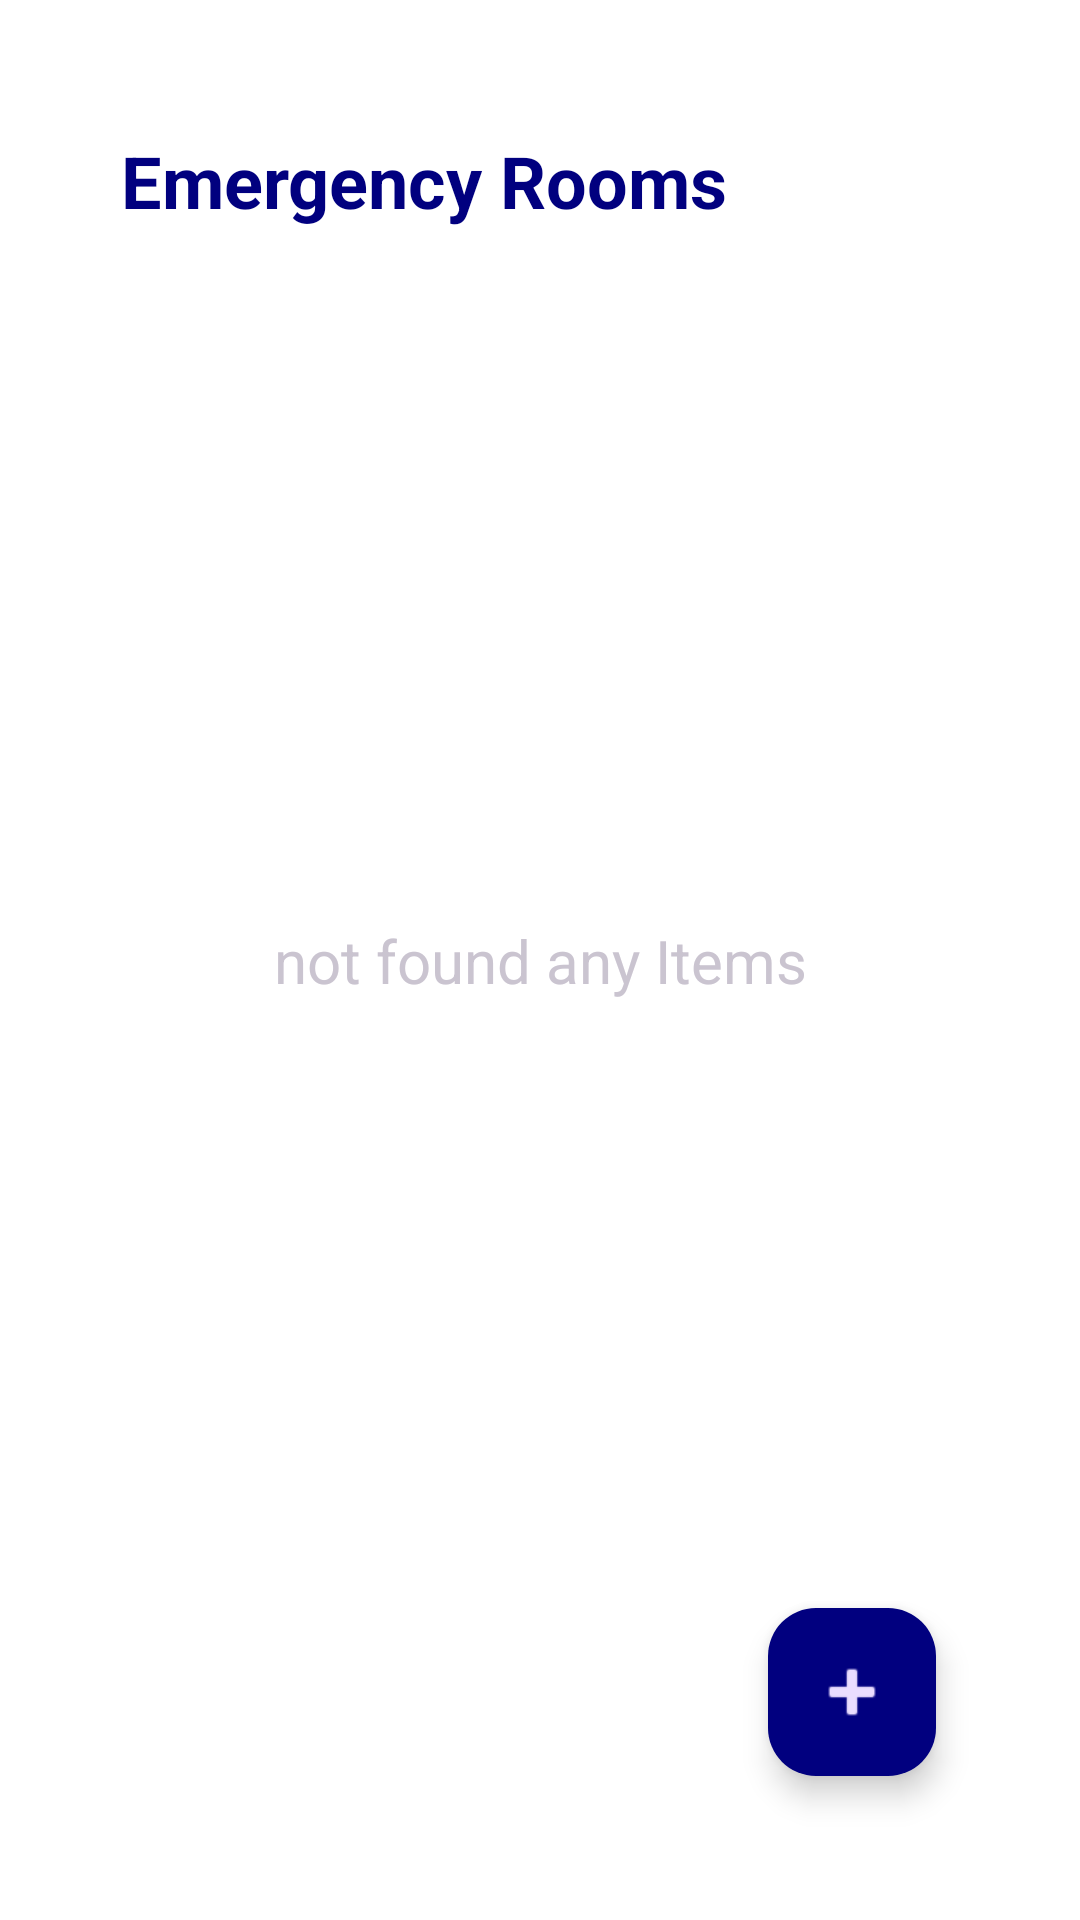

Where icons sit on this 1080x1920 app screen, as BBox(x1, y1, x2, y2):
add blood: BBox(768, 1608, 936, 1776)
